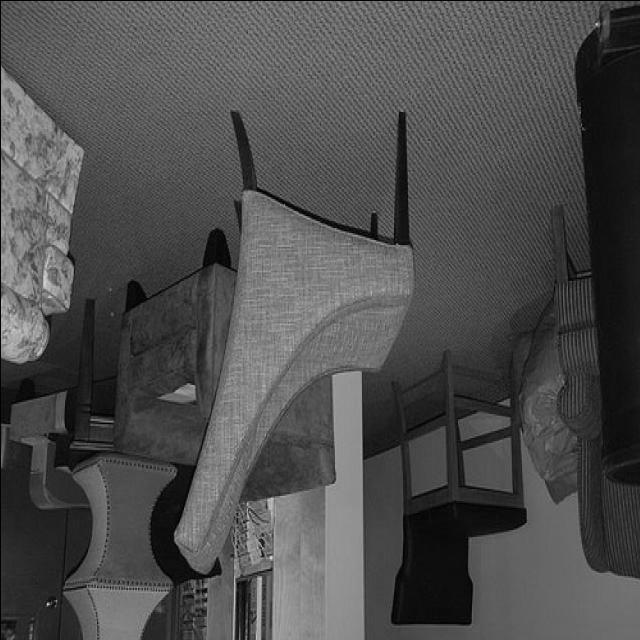chair: (174, 110, 416, 576), (392, 355, 529, 631)
